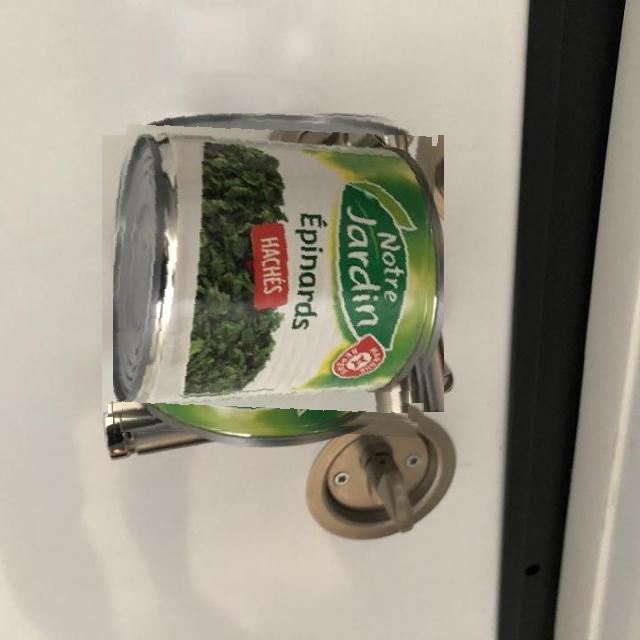recyclable: (114, 113, 434, 433)
